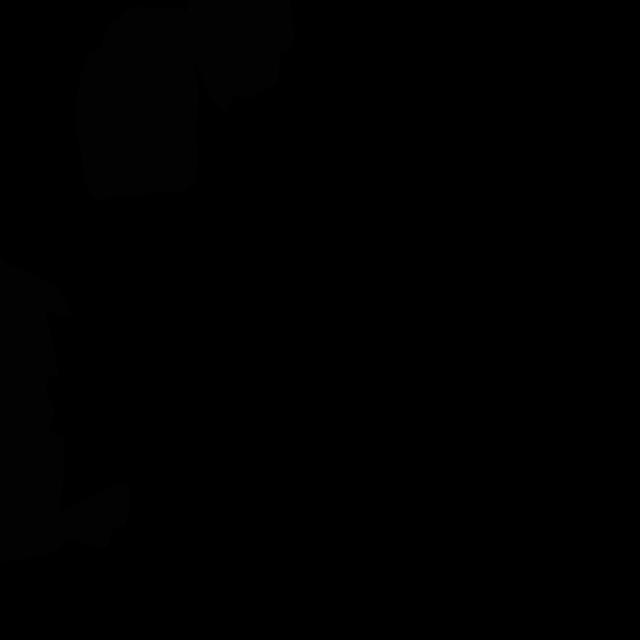cardboard: (0, 257, 130, 561), (75, 6, 199, 199), (185, 0, 296, 111)
